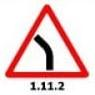road_sign: (3, 3, 91, 80)
